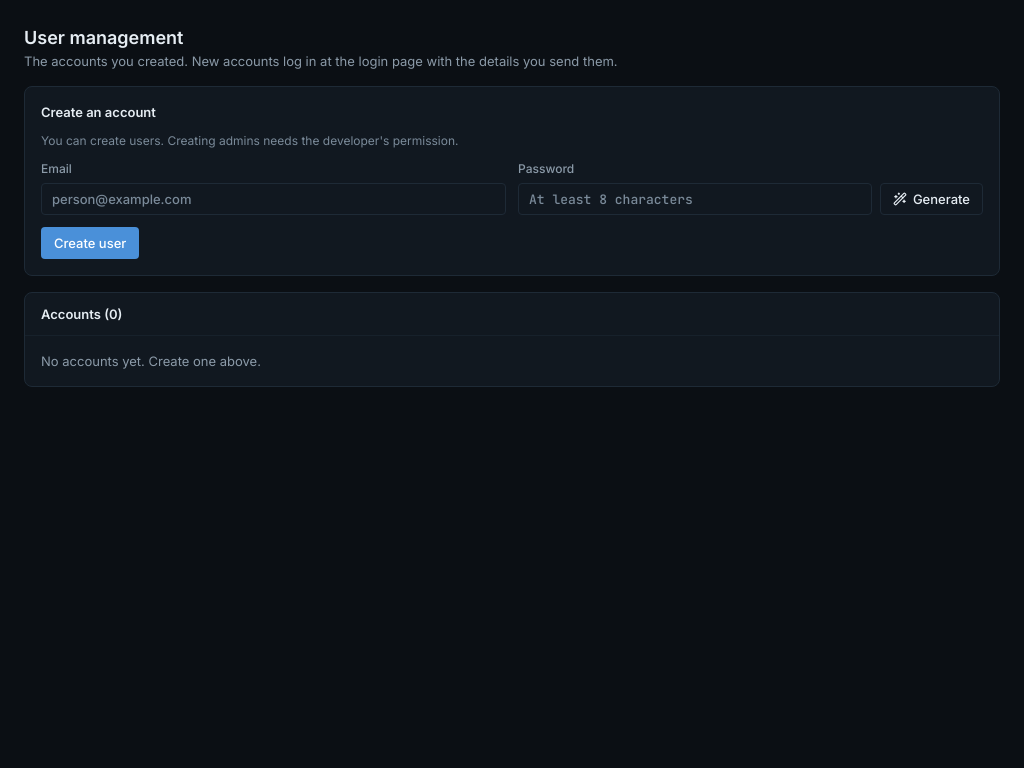
UserManagementPage › an admin without permission creates users only, and gets the login details to send
The width and height of the screenshot is (1024, 768).
Expected: the text "No accounts yet. Create one above." is shown, [41,353,261,369]
Expected: the text "Creating admins needs the developer's permission" is shown, [41,133,458,148]
Type "new.user@x.co" into the field labelled "Email". click: [274, 199]
box: [41,183,506,215]
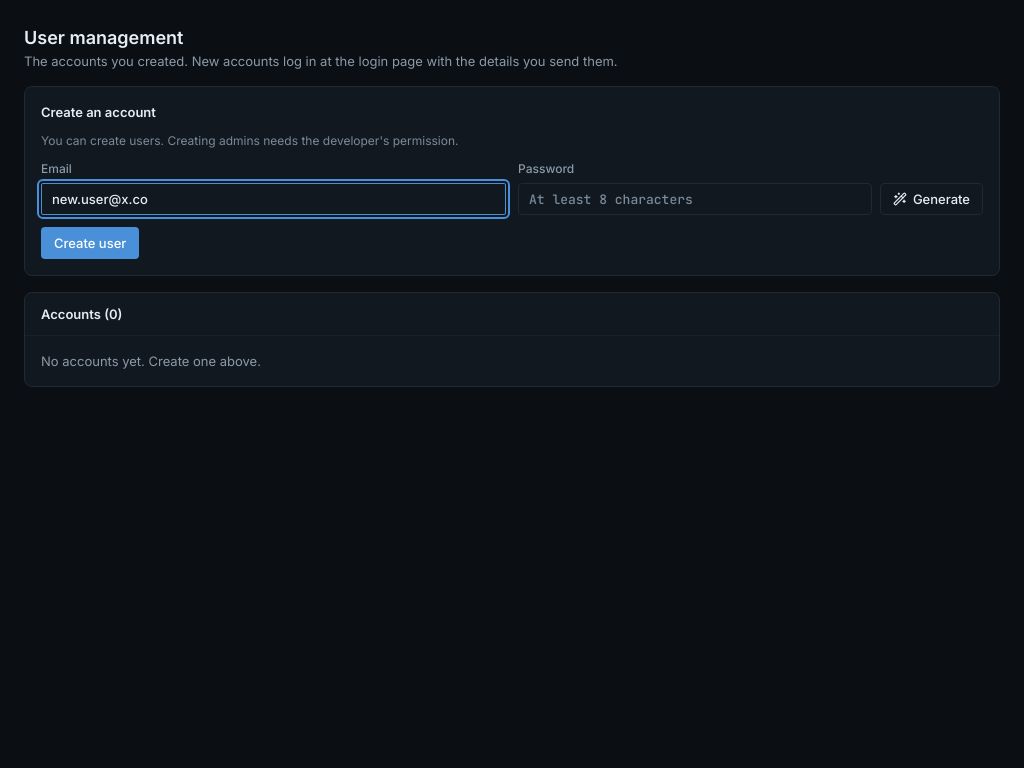
Type "secret123" into the field labelled "Password". click: [695, 199]
box: [518,183,872,215]
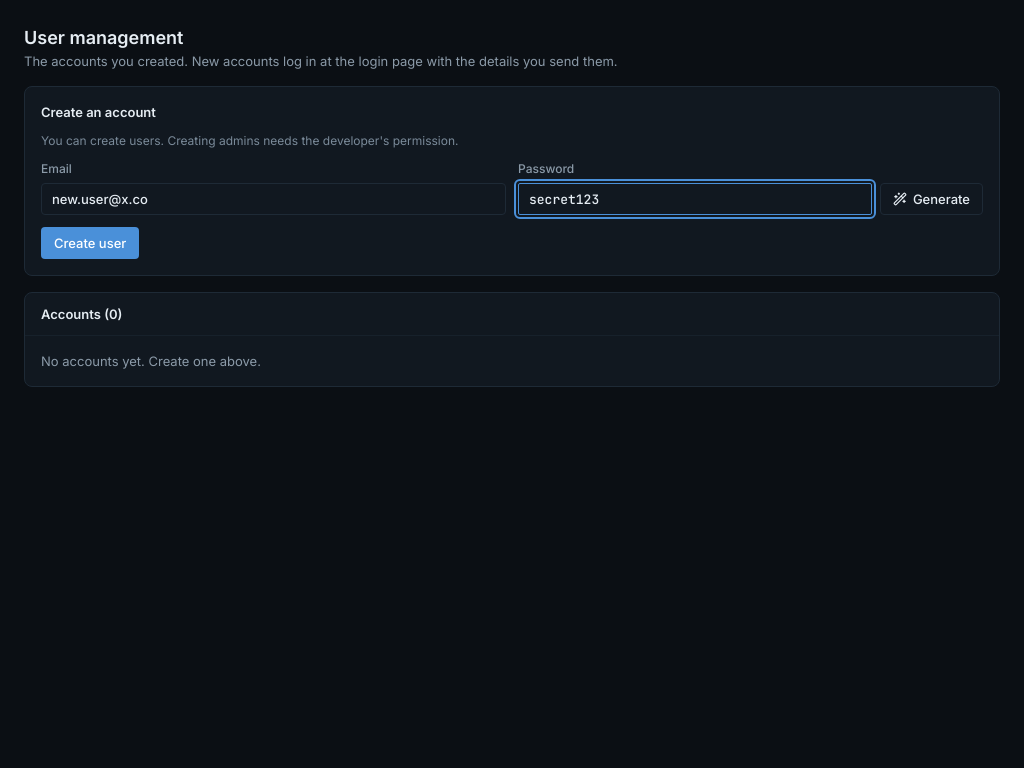
Click the button "Create user". click: [90, 243]
box: [41,227,139,259]
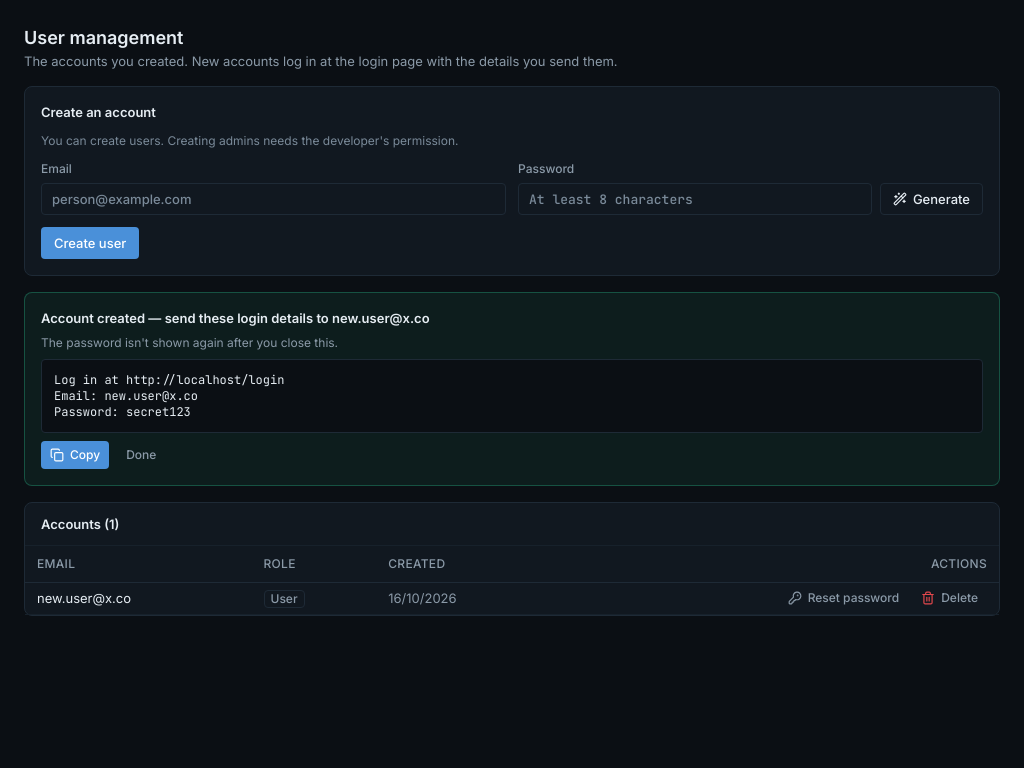
Expected: the message shows "Account created — send these login details to new.user@x.co", [24,292,1000,486]
Expected: the message shows "Email: new.user@x.co", [54,372,284,420]
Expected: the message shows "Password: secret123", [54,372,284,420]
